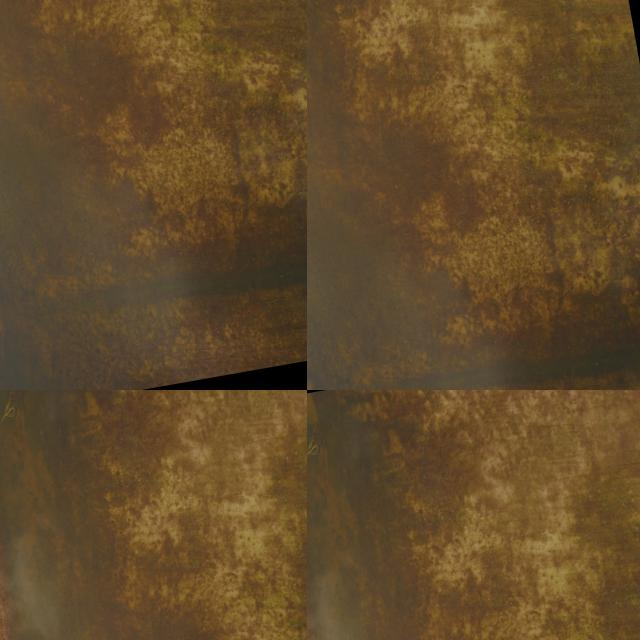fire: (307, 390, 640, 640)
